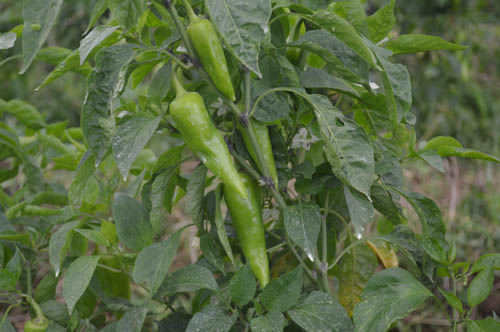ChiliPepper: (172, 95, 246, 201), (223, 177, 270, 282), (191, 19, 233, 99), (236, 114, 280, 183)
